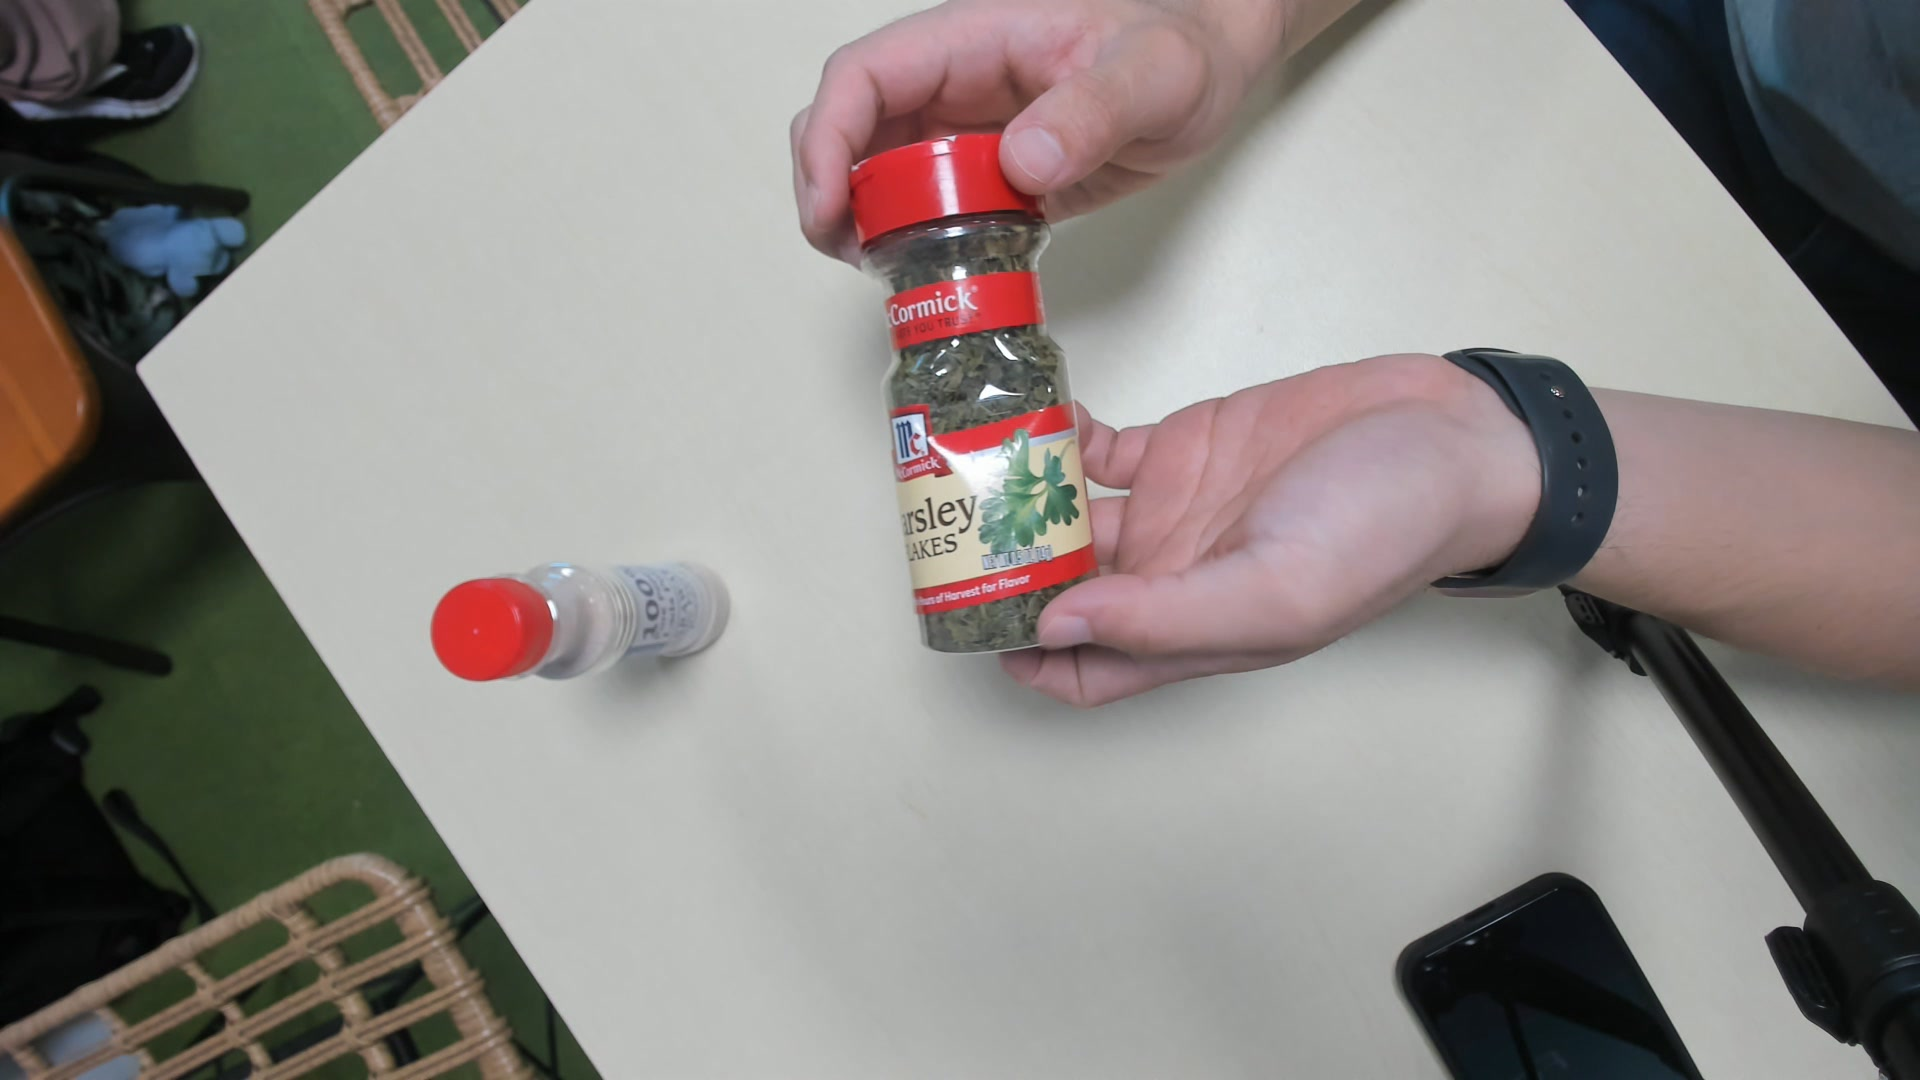HerbsSpicesPepper_0-99g_NonHalal_NonHealthy: (848, 121, 1102, 653)
